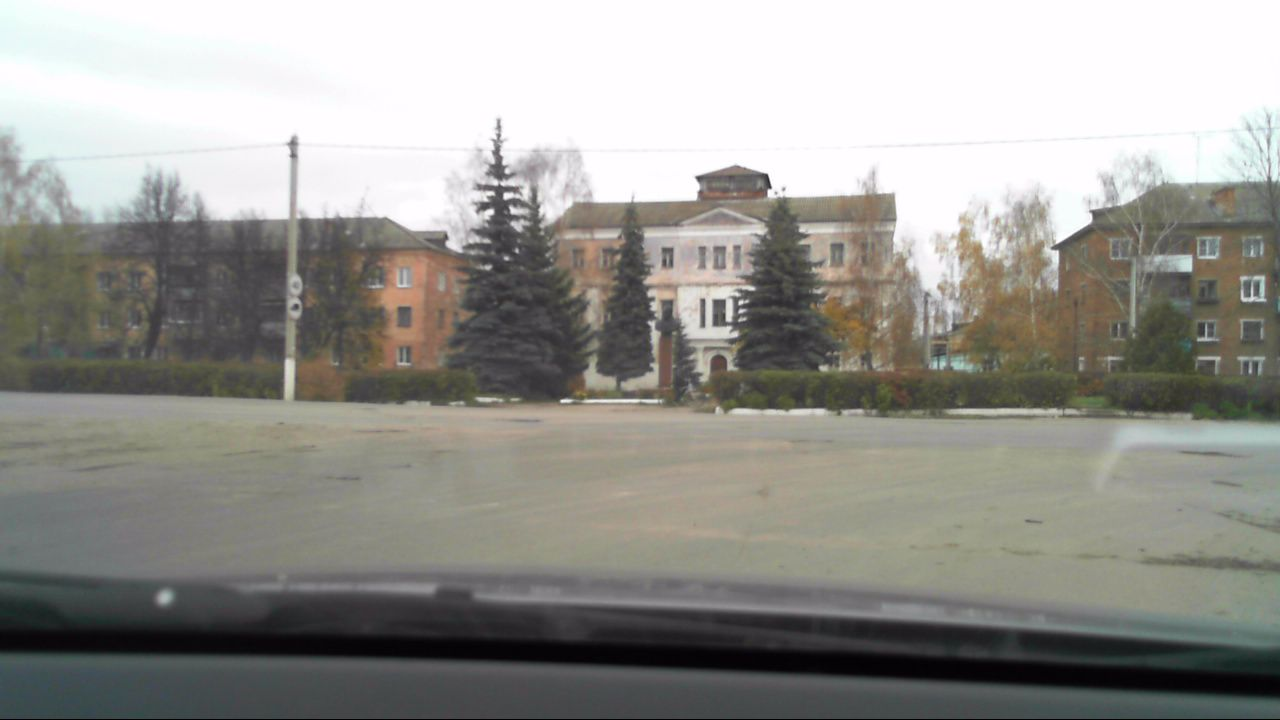speed_warning_40: (288, 272, 306, 294)
